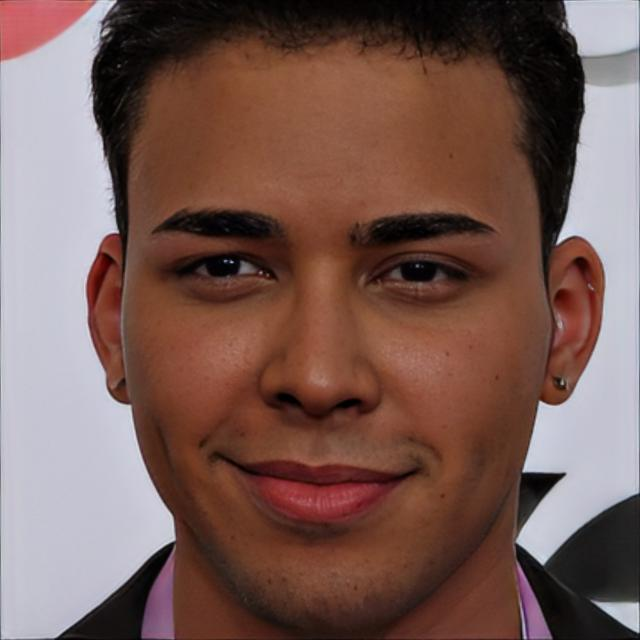content: (119, 23, 556, 638)
